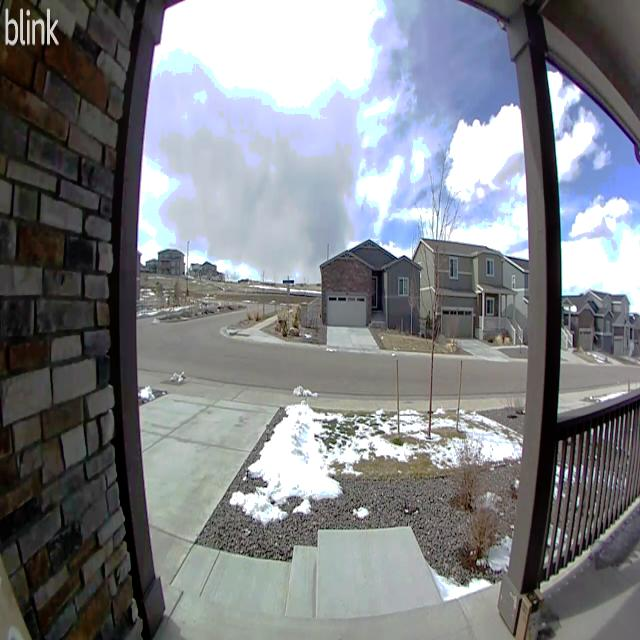Box: (516, 581, 546, 640)
